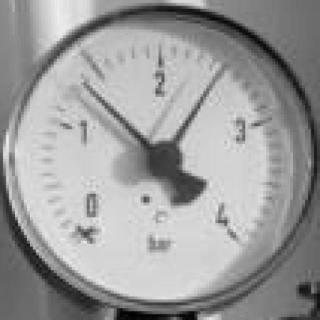gauge: (0, 1, 320, 318), (60, 190, 115, 258), (212, 213, 262, 267), (146, 140, 184, 180), (76, 75, 94, 93), (216, 61, 230, 76)
